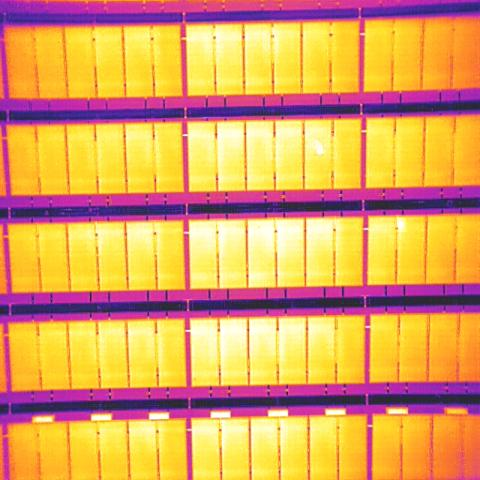fault: (314, 138, 324, 157), (396, 217, 406, 232)
